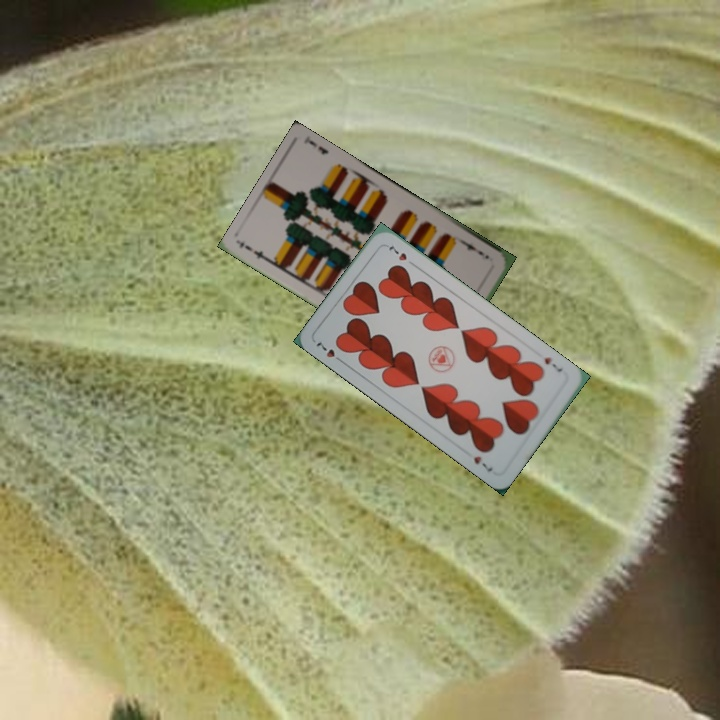E7: (459, 237, 492, 262), (241, 241, 274, 265)
H7: (312, 337, 346, 366), (540, 352, 565, 375)
